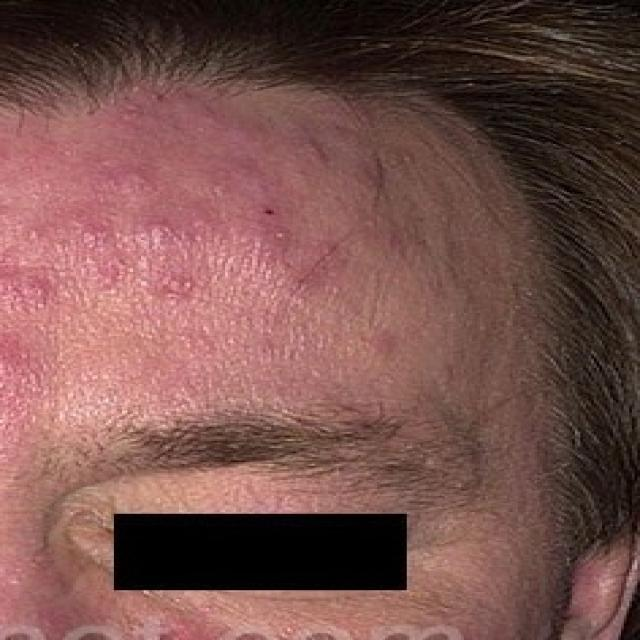Rosacea: (12, 104, 330, 390)
